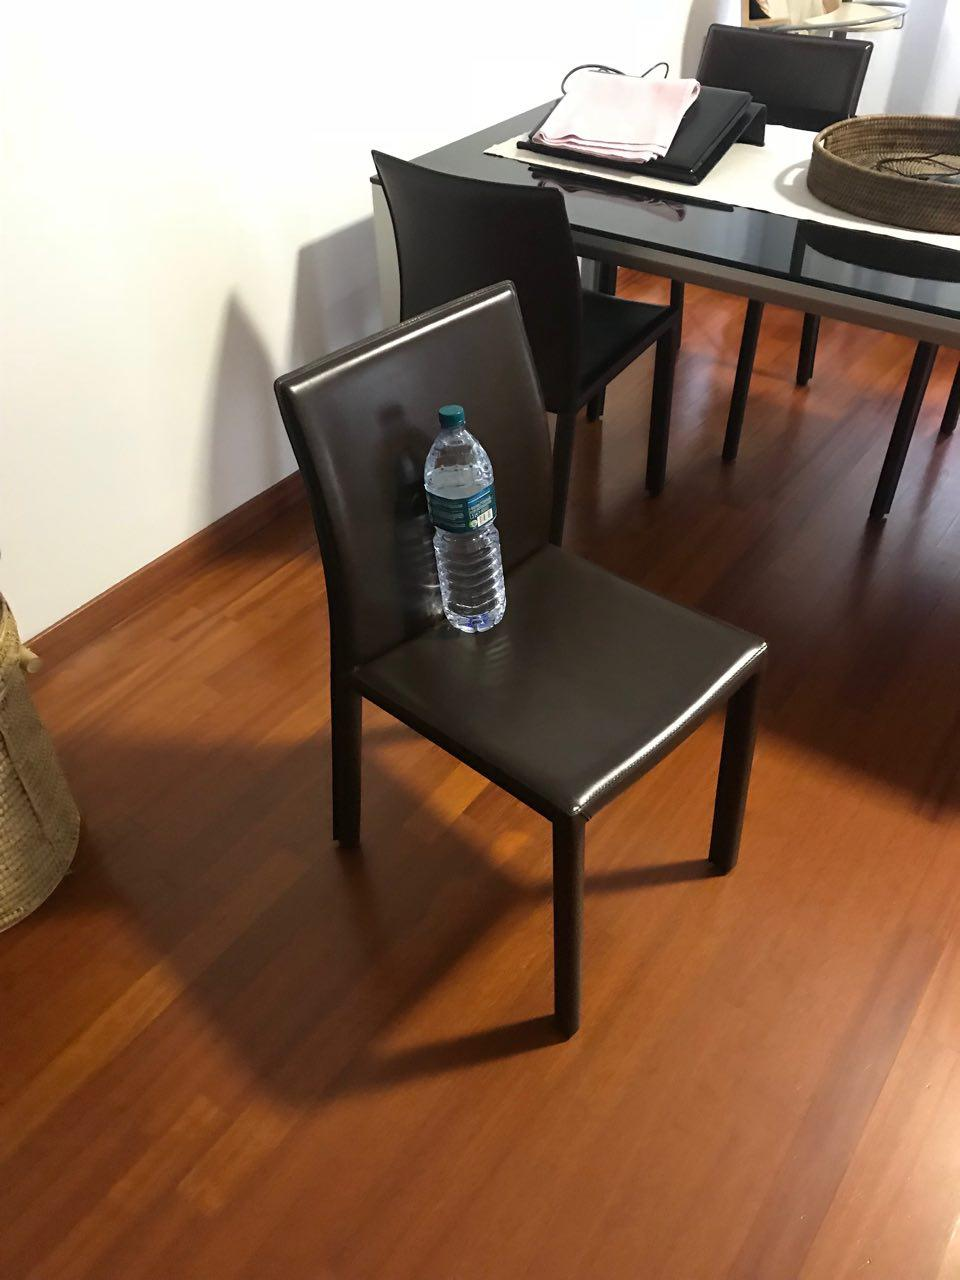san_bernardo: (423, 404, 507, 632)
